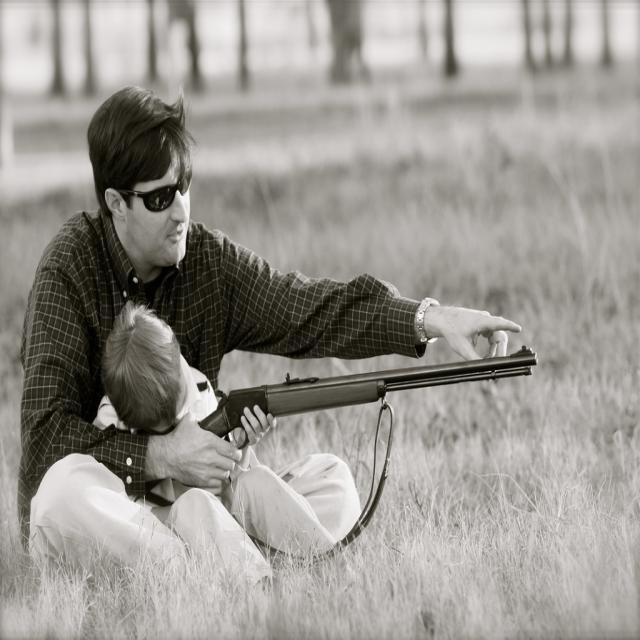weapon: (191, 338, 537, 438)
